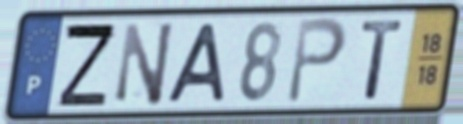8: (237, 19, 284, 105)
A: (163, 21, 229, 105)
N: (113, 19, 177, 109)
P: (283, 15, 350, 107)
T: (359, 17, 408, 102)
Z: (55, 21, 119, 109)
